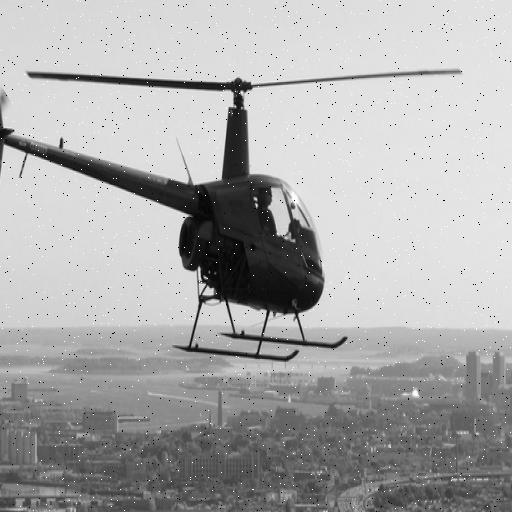helicopter: (1, 68, 462, 361)
